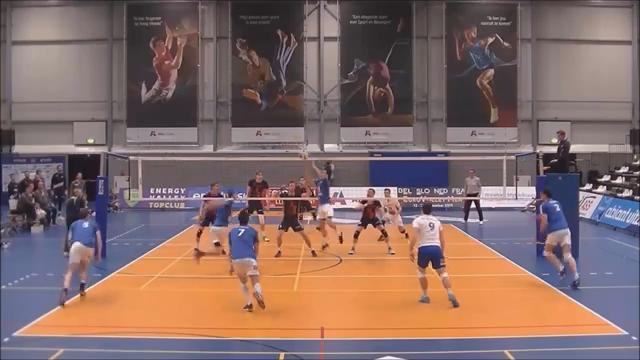Player: (409, 202, 458, 307), (59, 208, 101, 305), (540, 189, 579, 288), (229, 210, 264, 311), (275, 181, 316, 256), (349, 188, 394, 254), (194, 182, 222, 257), (208, 192, 236, 243), (383, 188, 408, 238), (246, 200, 268, 241), (299, 200, 316, 220)
Set: (306, 156, 344, 253)
ball: (299, 149, 309, 160)
